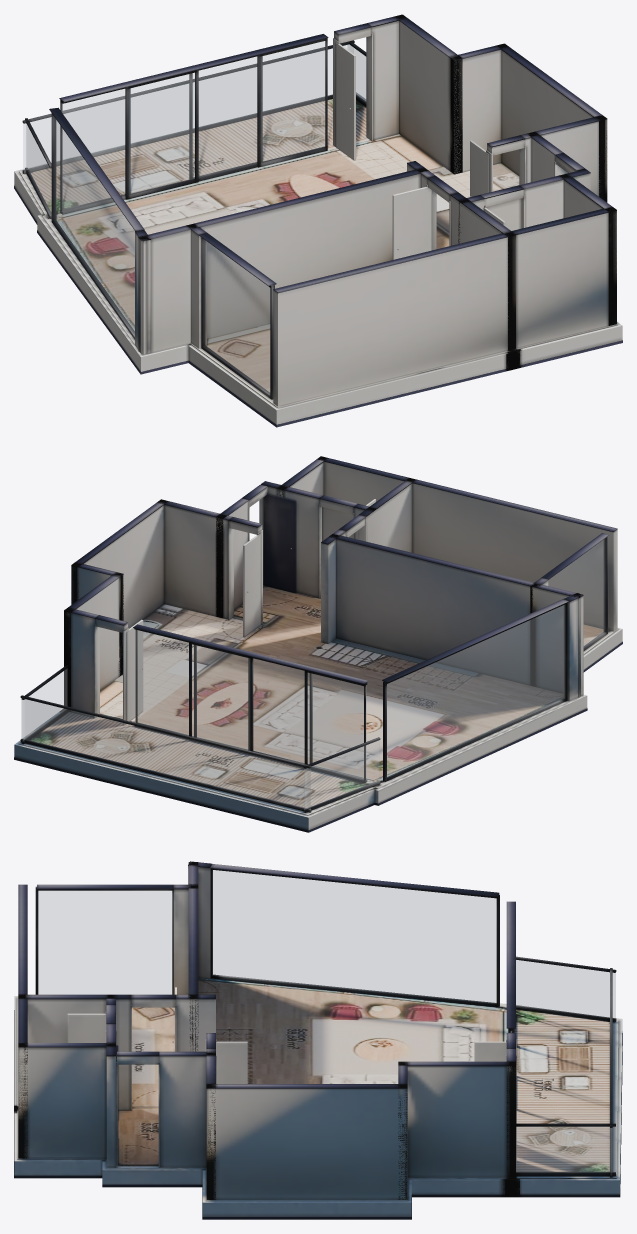
3 renders of one model, top to bottom at view 1: azimuth 30°, elevation 25°; view 2: azimuth 150°, elevation 25°; view 3: azimuth 270°, elevation 25°, orthographic. The views are drawn at different scales.
Visible parts, largest first — view 1: plan, glass0_m, railg0_m, glass1_m, glass2_m, railg2_m; view 2: plan, glass0_m, glass1_m, railg0_m, railg2_m, glass2_m, railg1_m; view 3: plan, glass1_m, glass2_m, railg1_m, railg2_m.
Boxes of the visible parts, x1,y1,x2,y2 form: plan: (14,14,622,427); glass0_m: (62,41,324,210); railg0_m: (23,44,353,169); glass1_m: (54,117,134,333); glass2_m: (204,240,269,393); railg2_m: (26,124,51,214); plan: (14,456,622,832); glass0_m: (135,630,366,778); glass1_m: (387,605,564,777); railg0_m: (21,699,310,809); railg2_m: (304,740,379,811); glass2_m: (548,539,604,646); railg1_m: (23,669,67,740); plan: (14,861,622,1219); glass1_m: (212,870,496,1003); glass2_m: (38,891,171,994); railg1_m: (516,1127,615,1172); railg2_m: (516,960,615,1018).
Bounding box in the file's own units: 9.97 × 2.62 × 11.16.
2 materials, 1 textured.
